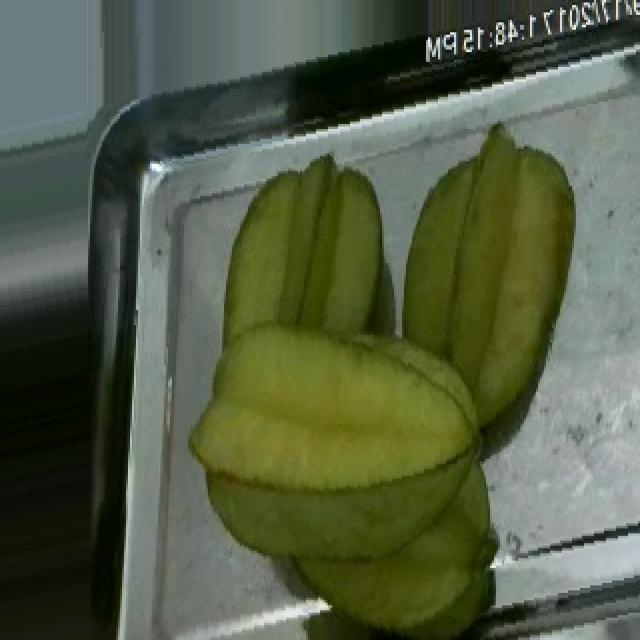fruit: (176, 297, 528, 640), (364, 106, 618, 456), (198, 144, 414, 365)
